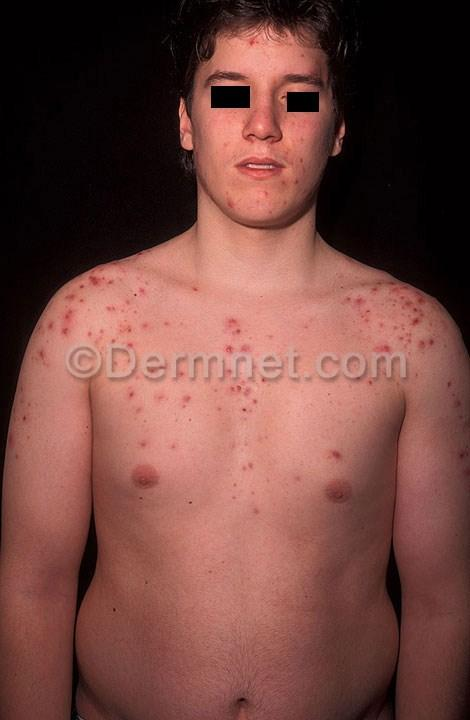Acne: (131, 357, 216, 414), (213, 325, 270, 406), (105, 265, 152, 340), (53, 287, 92, 358), (385, 277, 435, 328), (345, 285, 379, 340)
